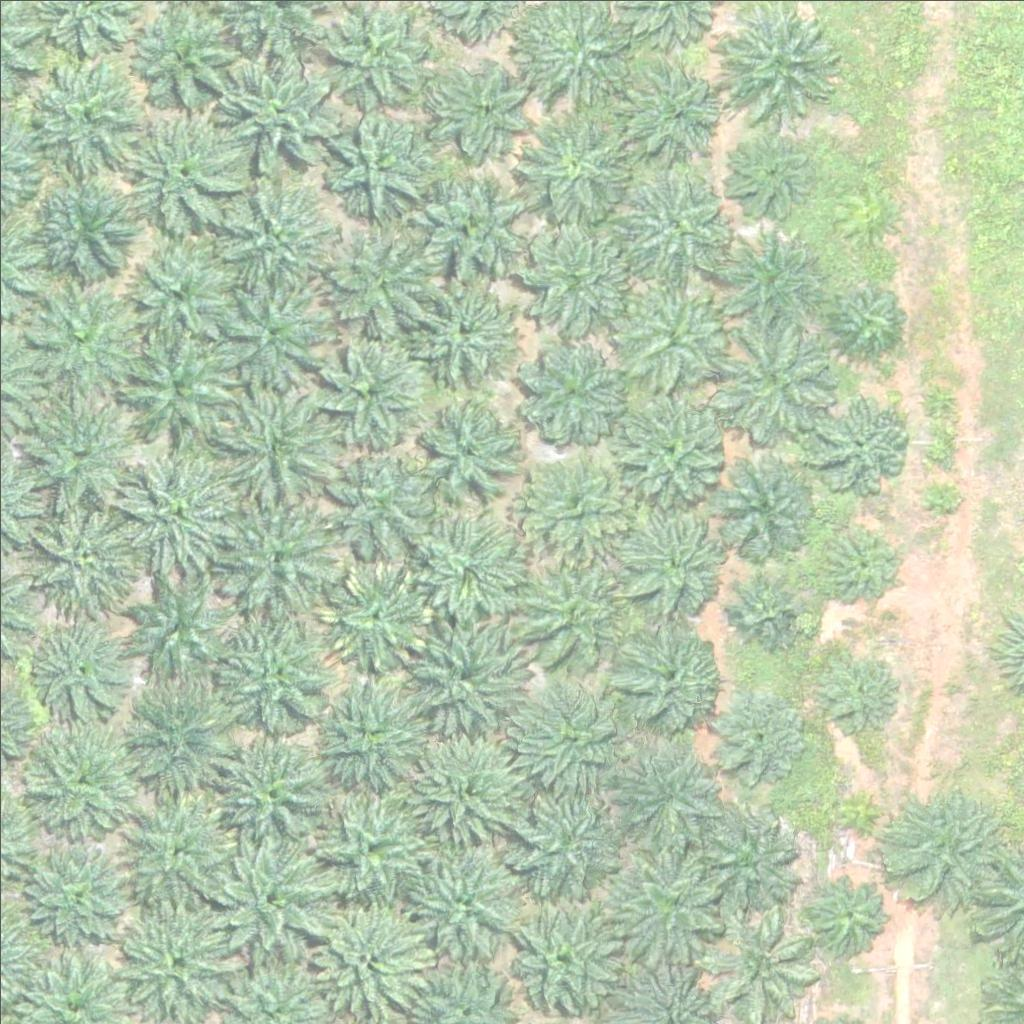Kelapa_Sawit: (497, 889, 622, 1015), (291, 889, 416, 1015), (12, 831, 137, 957), (24, 494, 149, 620), (16, 383, 141, 509), (120, 448, 245, 574), (116, 678, 241, 804), (120, 785, 245, 911), (113, 893, 238, 1019), (208, 835, 333, 961), (212, 732, 337, 858), (212, 613, 337, 739), (214, 493, 339, 619), (224, 378, 349, 504), (603, 843, 728, 969), (714, 319, 839, 445), (208, 270, 333, 396), (210, 176, 335, 302), (215, 41, 340, 167), (118, 331, 243, 457), (114, 232, 239, 358), (118, 111, 243, 237), (26, 276, 151, 402), (878, 787, 1003, 912), (312, 789, 425, 903), (312, 681, 425, 795), (26, 56, 139, 170), (703, 909, 816, 1022), (517, 556, 630, 669), (523, 450, 636, 563), (611, 389, 724, 502), (621, 505, 734, 618), (611, 621, 724, 734), (606, 739, 719, 852), (513, 339, 626, 452), (405, 269, 518, 382), (518, 224, 631, 337), (518, 111, 631, 224), (420, 173, 533, 286), (23, 169, 136, 282), (410, 729, 522, 843), (406, 840, 518, 954), (327, 221, 439, 335), (25, 717, 137, 830), (319, 560, 431, 673), (320, 444, 432, 557), (413, 391, 525, 504), (413, 515, 525, 628), (406, 617, 518, 730), (514, 783, 626, 896), (515, 682, 627, 795), (687, 800, 799, 913), (312, 335, 424, 448), (614, 273, 726, 386), (713, 222, 825, 335), (618, 166, 730, 279), (325, 109, 437, 222), (29, 620, 129, 721), (706, 683, 806, 784), (714, 452, 814, 553), (622, 57, 722, 158), (434, 57, 534, 158), (127, 580, 227, 680), (810, 390, 910, 490), (813, 644, 901, 732), (815, 516, 903, 604), (803, 868, 891, 956), (726, 133, 813, 221), (829, 280, 904, 356), (727, 574, 802, 649), (830, 795, 868, 833), (923, 475, 960, 513)
